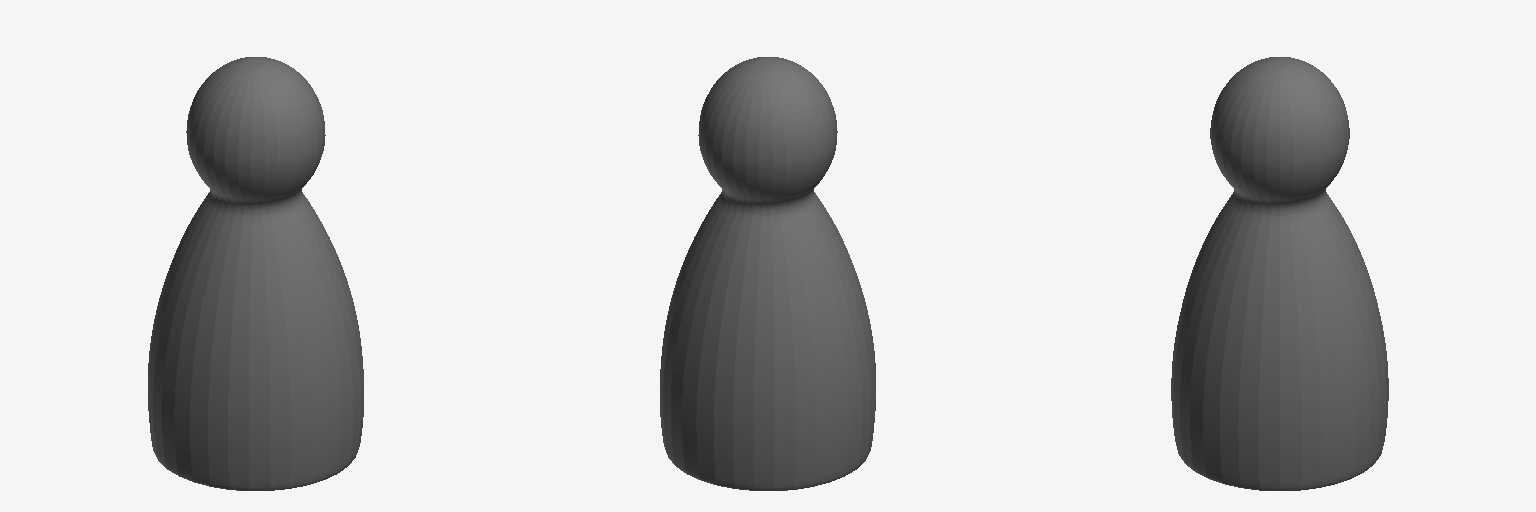
Rendered from gamepiece.obj.
The picture shows the model from 3 angles: view 1: azimuth 30°, elevation 25°; view 2: azimuth 150°, elevation 25°; view 3: azimuth 270°, elevation 25°; orthographic projection.
Parts seen in each view (by area): view 1: <STL_BINARY>; view 2: <STL_BINARY>; view 3: <STL_BINARY>.
Boxes of the visible parts, x1=… form: <STL_BINARY>: x1=148, y1=57, x2=363, y2=490; <STL_BINARY>: x1=660, y1=57, x2=875, y2=490; <STL_BINARY>: x1=1171, y1=57, x2=1388, y2=490.
Size of the model in its own units: 12.65 by 24.82 by 12.65.